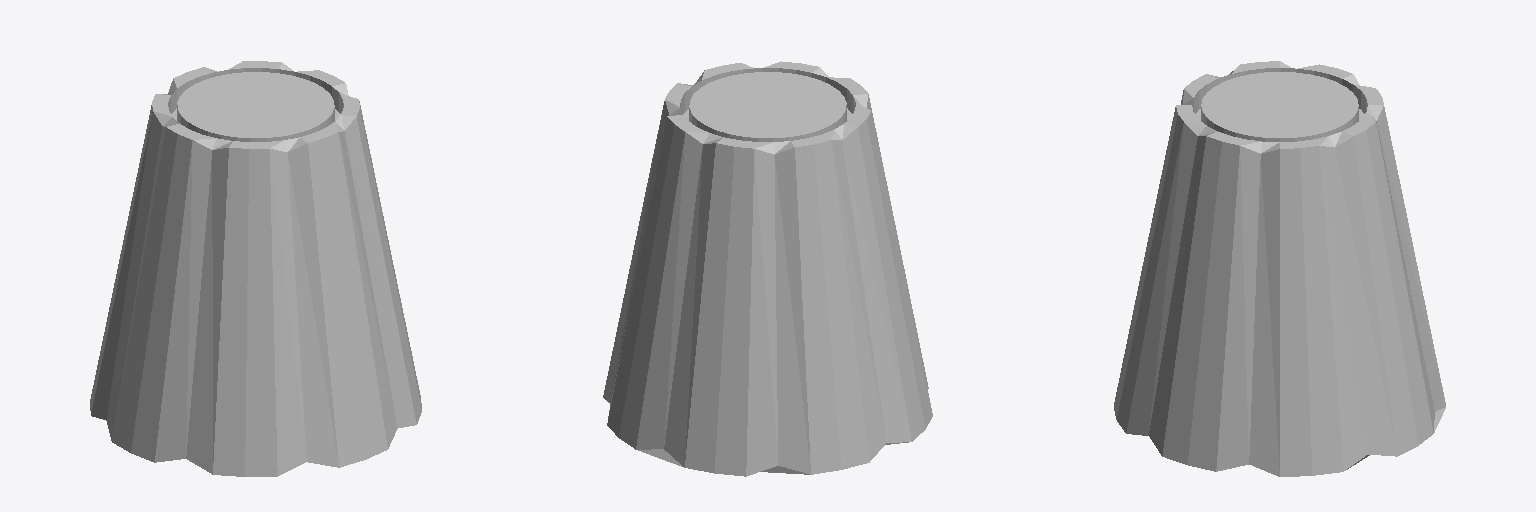
The model's file is высокий регулятор.obj.
3 renders of one model, left to right at view 1: azimuth 30°, elevation 25°; view 2: azimuth 150°, elevation 25°; view 3: azimuth 270°, elevation 25°, orthographic.
Parts seen in each view (by area): view 1: Cylinder; view 2: Cylinder; view 3: Cylinder.
Part boxes in pixels (left/top/right/bottom): Cylinder: left=90, top=61, right=421, bottom=476; Cylinder: left=603, top=61, right=932, bottom=476; Cylinder: left=1114, top=61, right=1445, bottom=476.
Bounding box in the file's own units: 2 × 2 × 2.